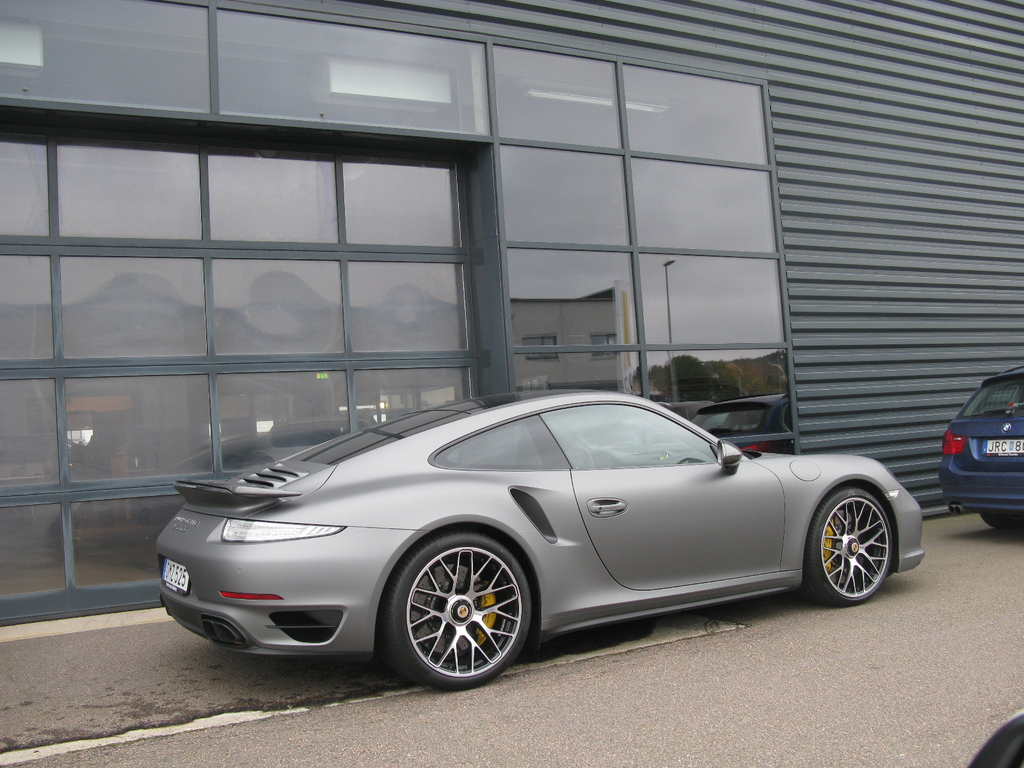mobil: (153, 381, 934, 694), (938, 364, 1024, 529)
